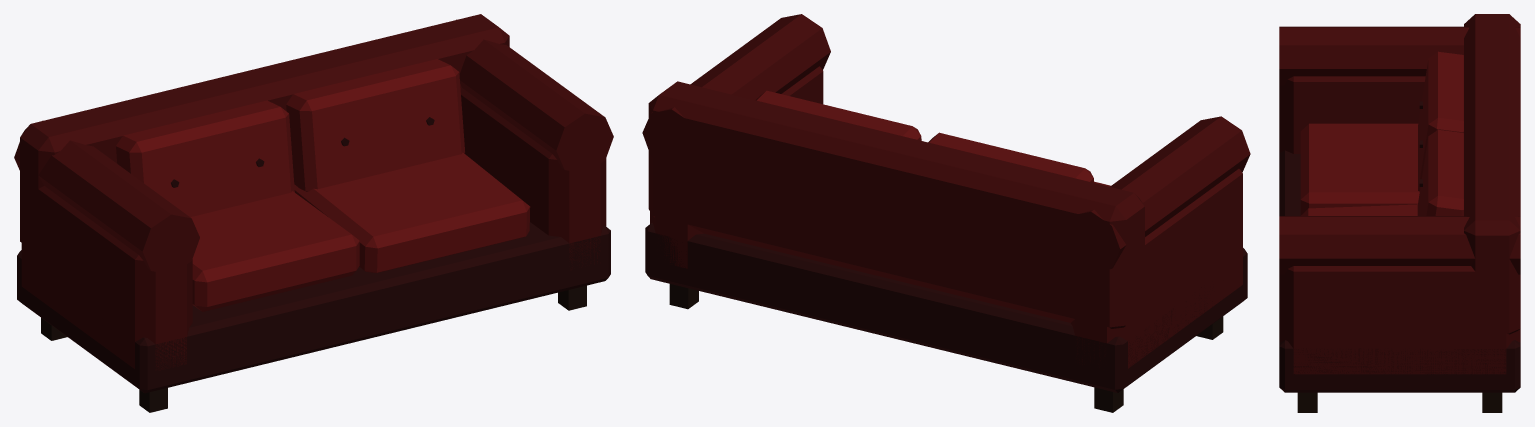
Rendered from SM_Hide_Couch.glb.
The picture shows the model from 3 angles, left to right: view 1: azimuth 30°, elevation 25°; view 2: azimuth 150°, elevation 25°; view 3: azimuth 270°, elevation 25°; orthographic projection. The views are drawn at different scales.
Parts seen in each view (by area): view 1: SM_Hide_Couch-col; view 2: SM_Hide_Couch-col; view 3: SM_Hide_Couch-col.
Part boxes in pixels (box(x1,y1,x2,y2)): SM_Hide_Couch-col: box(14, 14, 613, 412); SM_Hide_Couch-col: box(642, 14, 1250, 412); SM_Hide_Couch-col: box(1279, 14, 1520, 412).
Size of the model in its own units: 1.8 by 0.76 by 0.85.
